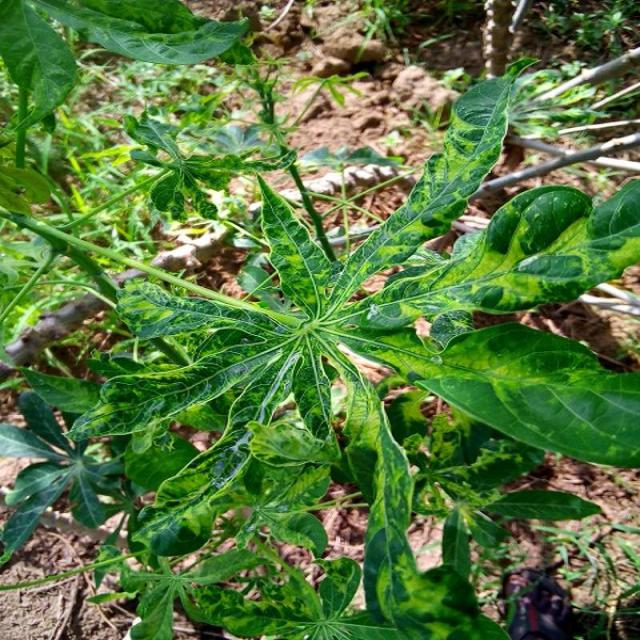cassava leaf: (62, 61, 640, 637)
